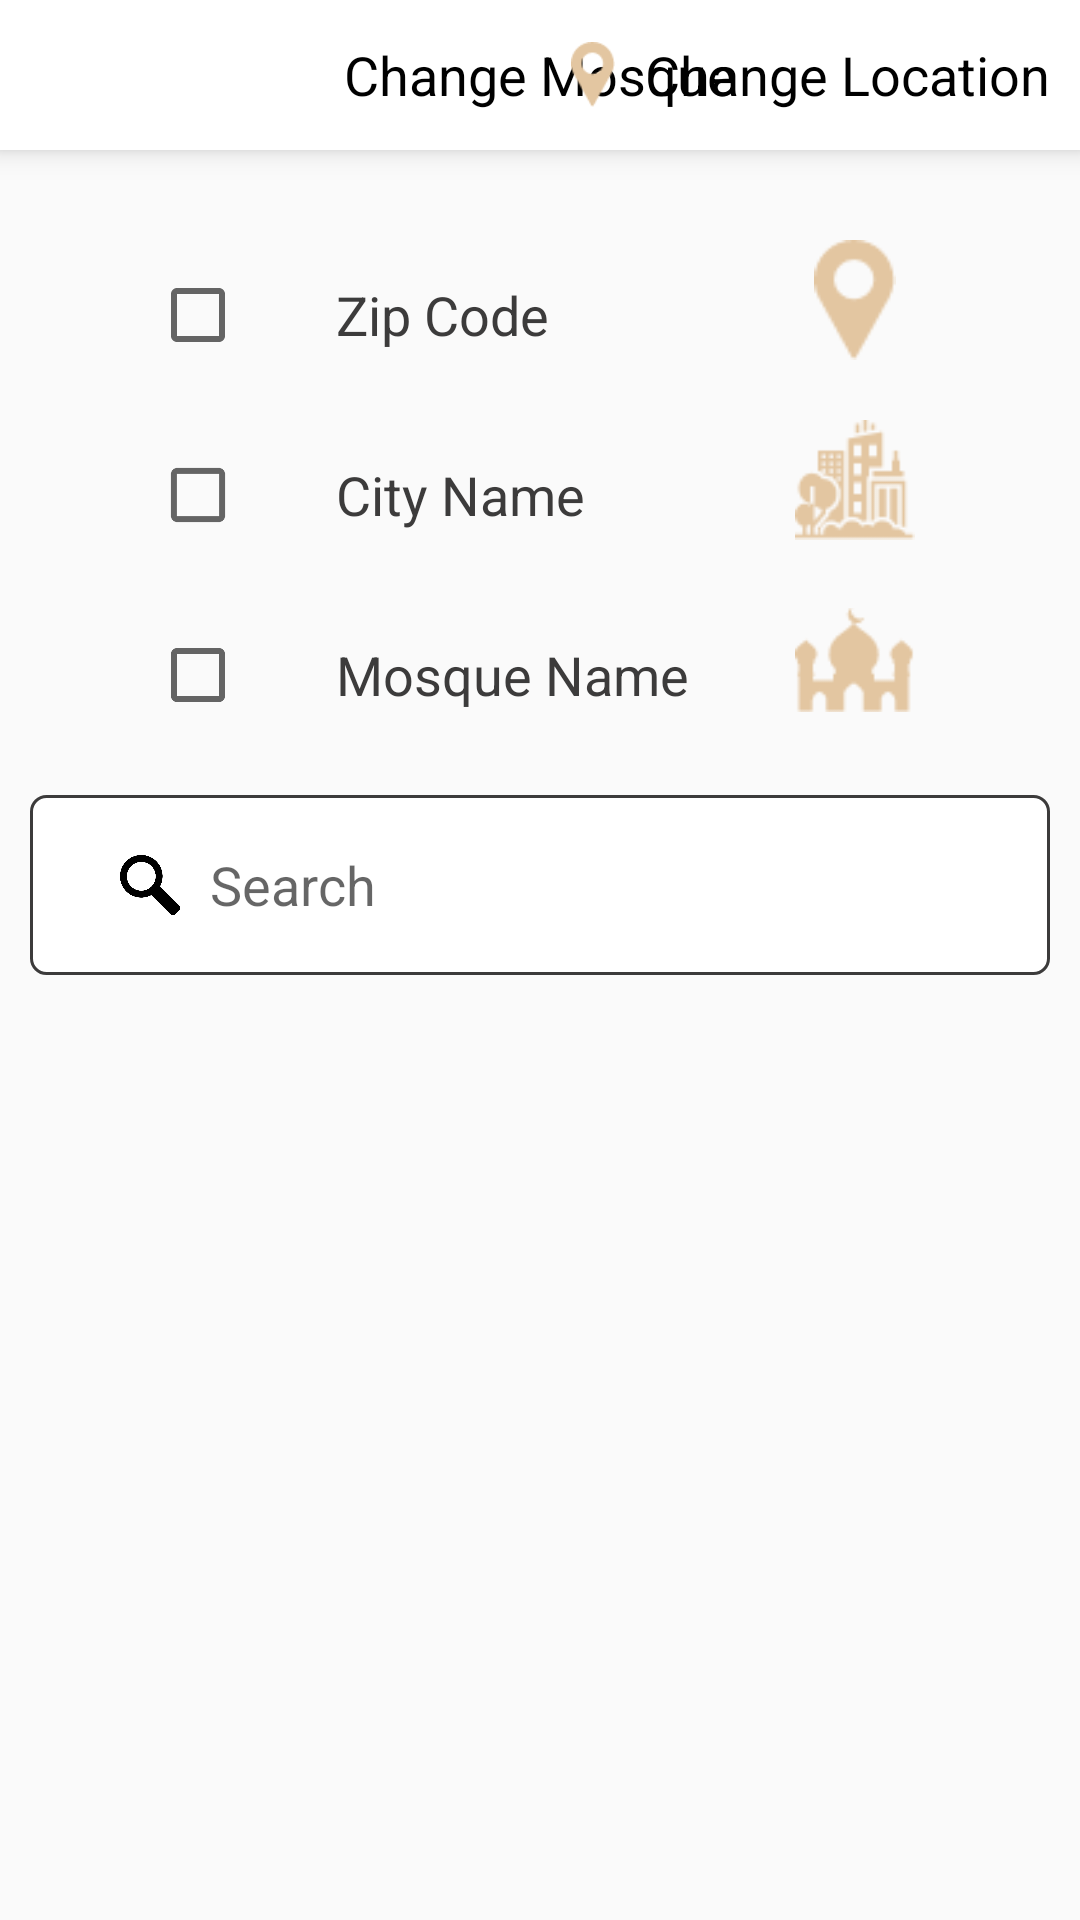

Icon bounding boxes for this 1080px x 1920px phone screenshot, format (x1, y1, x2, y2):
cityname: (795, 420, 914, 539)
loc: (814, 240, 894, 358)
mosqname: (795, 608, 913, 712)
